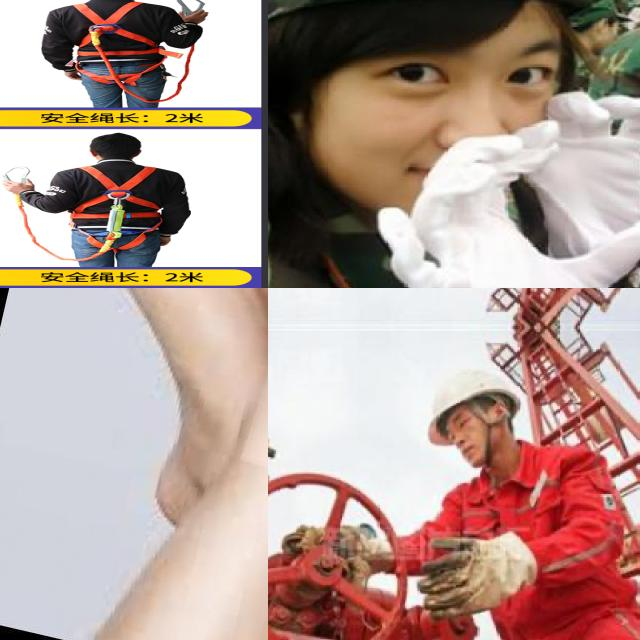No_Ear-Protection: (494, 402, 506, 422)
No_Glasses: (445, 409, 475, 441)
face_nomask: (304, 11, 562, 206), (455, 420, 486, 468)
hand_glove: (382, 118, 640, 288), (513, 84, 640, 282), (419, 532, 536, 615)
head_helmet: (428, 370, 520, 445)
person: (268, 0, 640, 288)
